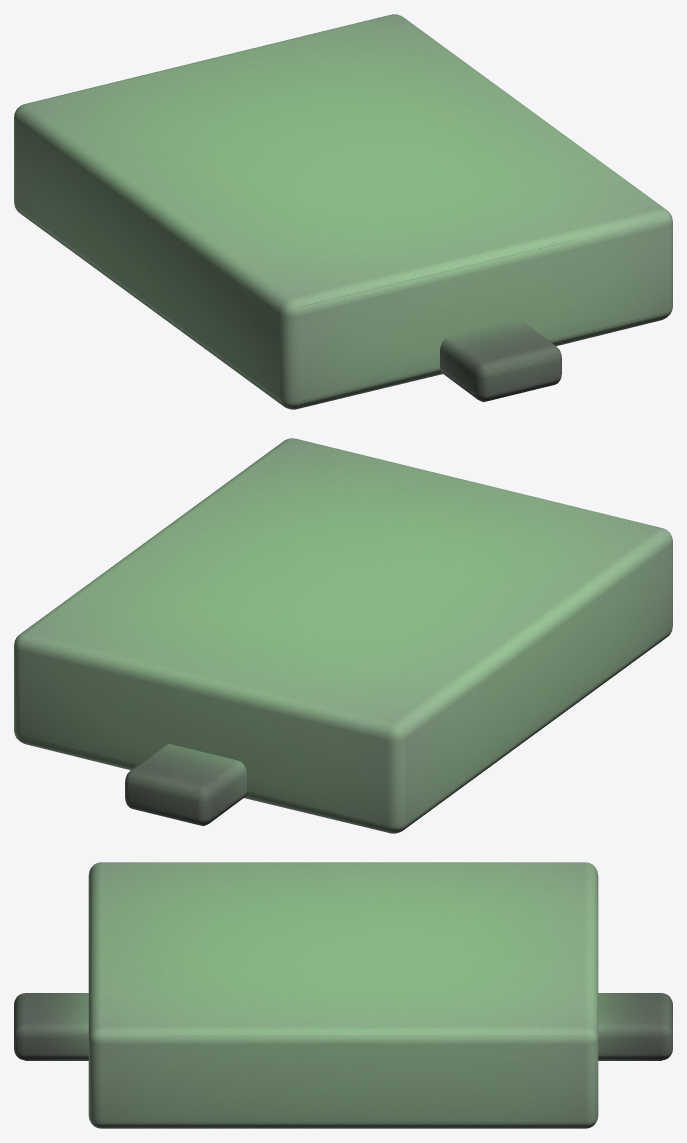
Rendered from soccerfielddome.glb.
3 renders of one model, top to bottom at view 1: azimuth 30°, elevation 25°; view 2: azimuth 150°, elevation 25°; view 3: azimuth 270°, elevation 25°, orthographic. The views are drawn at different scales.
Visible parts, largest first — view 1: Cube; view 2: Cube; view 3: Cube.
Boxes of the visible parts, x1=… form: Cube: x1=14, y1=14, x2=672, y2=409; Cube: x1=14, y1=438, x2=672, y2=833; Cube: x1=14, y1=862, x2=672, y2=1128.
Bounding box in the file's own units: 75.05 × 20.17 × 120.
Materials: 1 (1 with a texture image).
